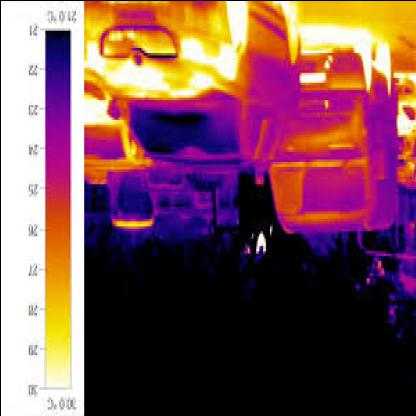Defects: (108, 52, 162, 94)
